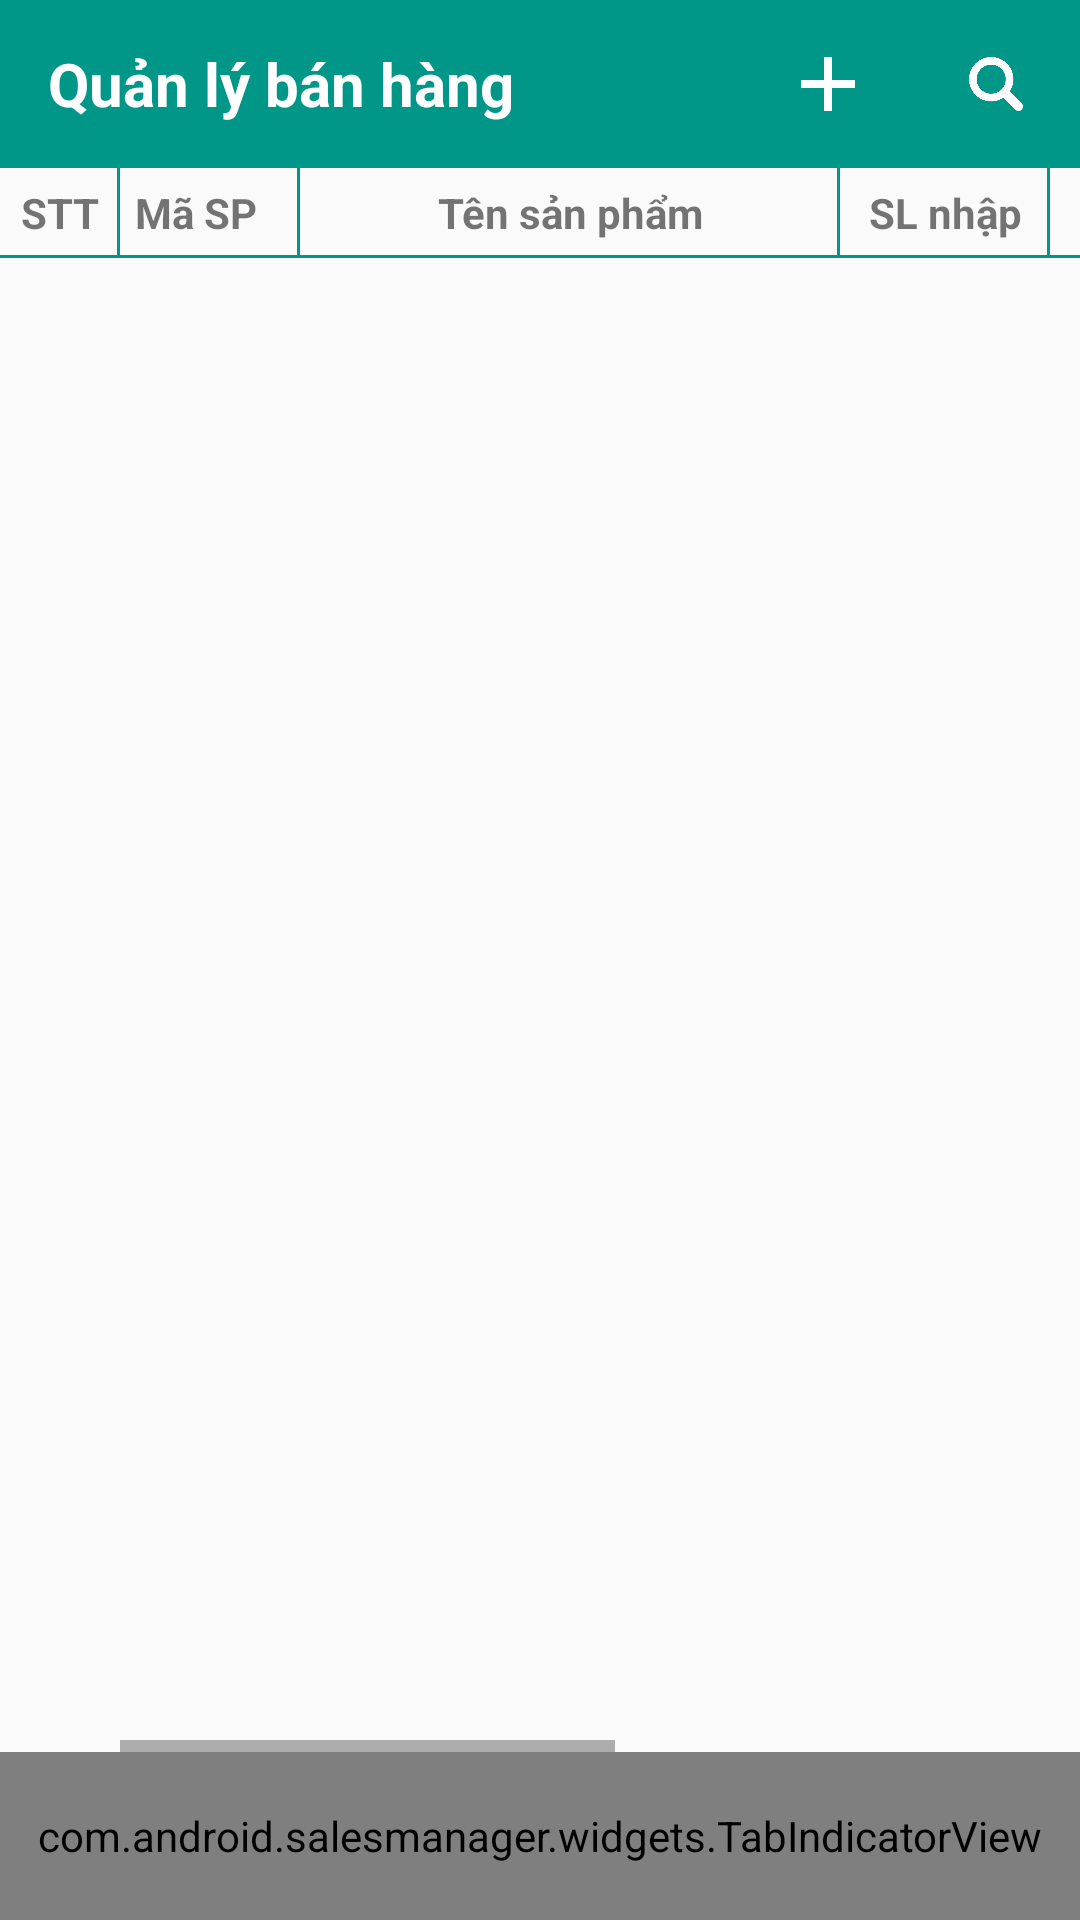

Screen size 1080 x 1920. Icon name, then its center in pixels as (x=x, y=y):
add: (x=828, y=84)
search: (x=996, y=84)
